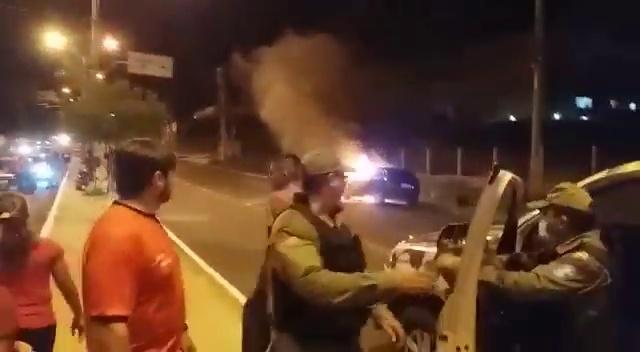fire: (348, 152, 383, 185)
smoke: (264, 64, 323, 131)
